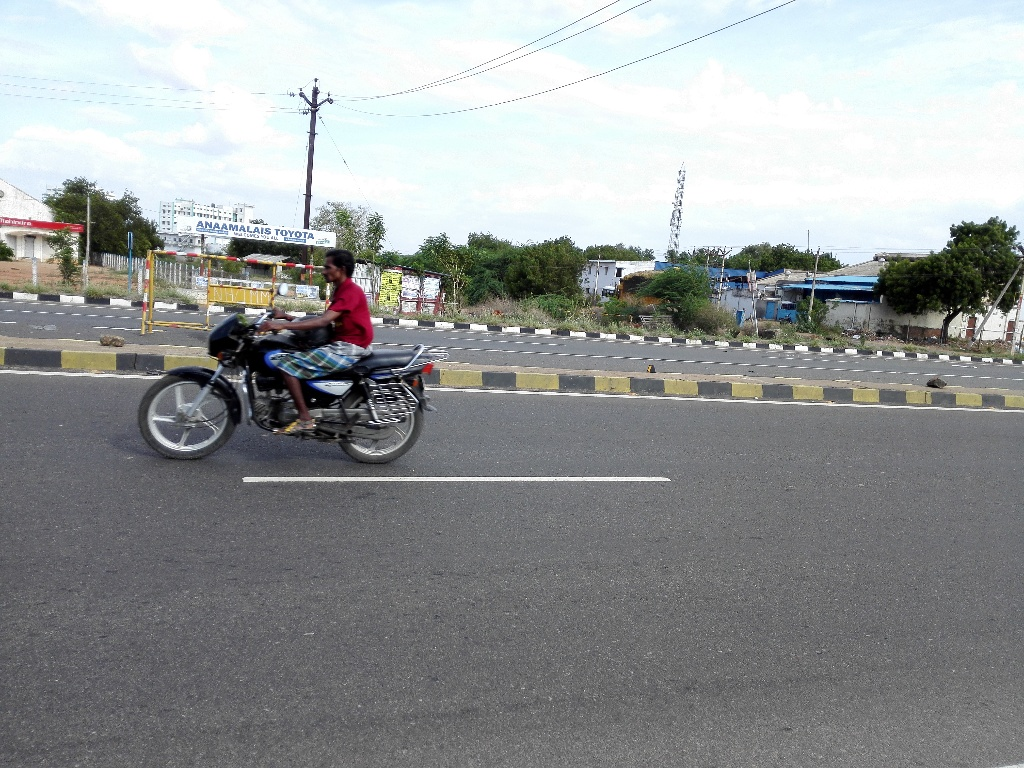biker: (129, 206, 455, 473)
nohelmet: (313, 237, 365, 296)
